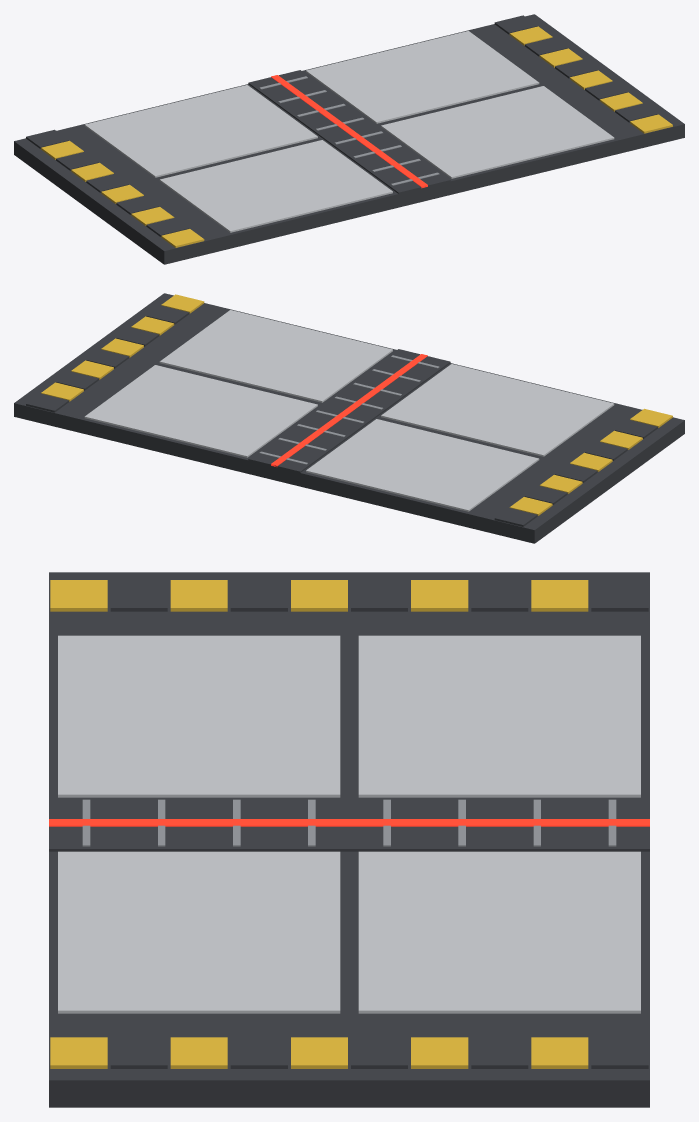
Rendered from FV_Corridor_Floor_2m.fbx.
3 views of the same model, one above another, from view 1: azimuth 30°, elevation 25°; view 2: azimuth 150°, elevation 25°; view 3: azimuth 270°, elevation 25° (orthographic). The views are drawn at different scales.
Visible parts, largest first — view 1: Corridor_Floor_2m; view 2: Corridor_Floor_2m; view 3: Corridor_Floor_2m.
Boxes of the visible parts, bbox=[...] form: Corridor_Floor_2m: bbox=[14, 14, 684, 264]; Corridor_Floor_2m: bbox=[14, 293, 684, 543]; Corridor_Floor_2m: bbox=[49, 572, 649, 1107].
Bounding box in the file's own units: 4 × 0.115 × 2.
